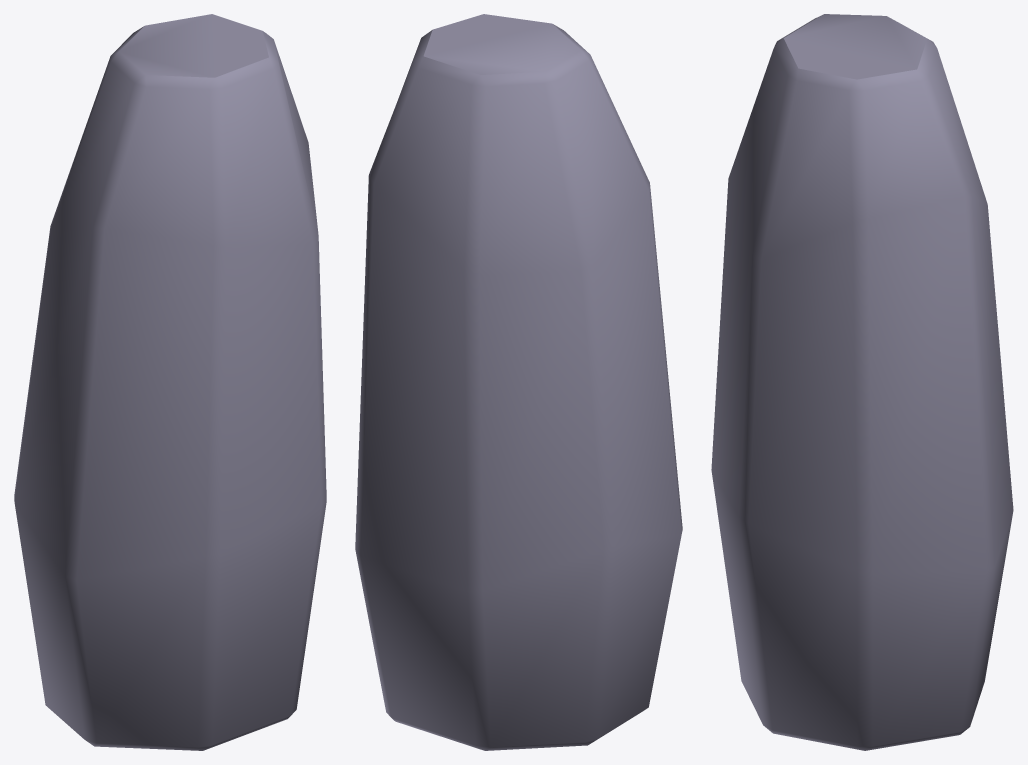
Rendered from tall_rock_01.glb.
3 views of the same model, side by side, from view 1: azimuth 30°, elevation 25°; view 2: azimuth 150°, elevation 25°; view 3: azimuth 270°, elevation 25° (orthographic).
Visible parts, largest first — view 1: tall_rock_01; view 2: tall_rock_01; view 3: tall_rock_01.
Boxes of the visible parts, x1=… form: tall_rock_01: x1=14, y1=14, x2=326, y2=750; tall_rock_01: x1=355, y1=14, x2=682, y2=750; tall_rock_01: x1=711, y1=14, x2=1013, y2=750.
Size of the model in its own units: 0.553 by 1.25 by 0.5169.
